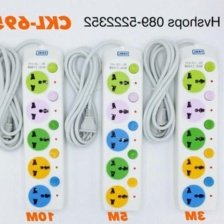three_eye_plug: (173, 41, 221, 212), (19, 43, 67, 213), (100, 44, 145, 214)
